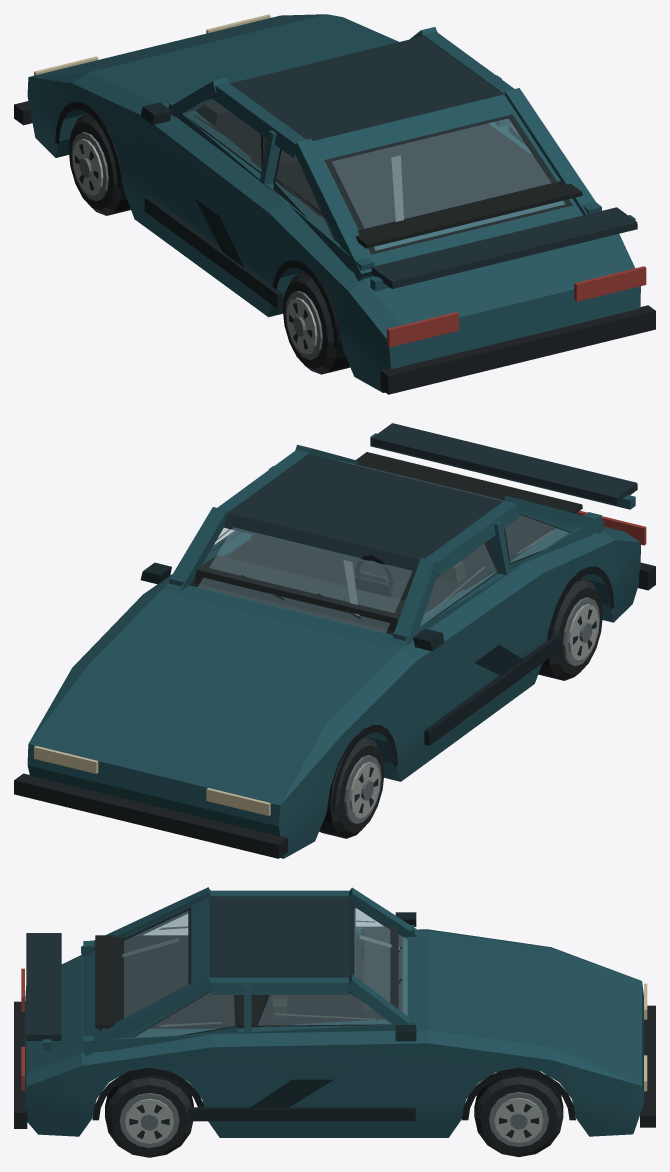
File: sportive_turquoise.glb
3 views of the same model, one above another, from view 1: azimuth 30°, elevation 25°; view 2: azimuth 150°, elevation 25°; view 3: azimuth 270°, elevation 25° (orthographic). The views are drawn at different scales.
Visible parts, largest first — view 1: proposition_sportive_turquoise; view 2: proposition_sportive_turquoise; view 3: proposition_sportive_turquoise.
Part boxes in pixels (x1,y1,x2,y2): proposition_sportive_turquoise: [14, 14, 655, 394]; proposition_sportive_turquoise: [14, 423, 655, 858]; proposition_sportive_turquoise: [14, 887, 655, 1157].
Bounding box in the file's own units: 1.97 × 1.28 × 4.38.
